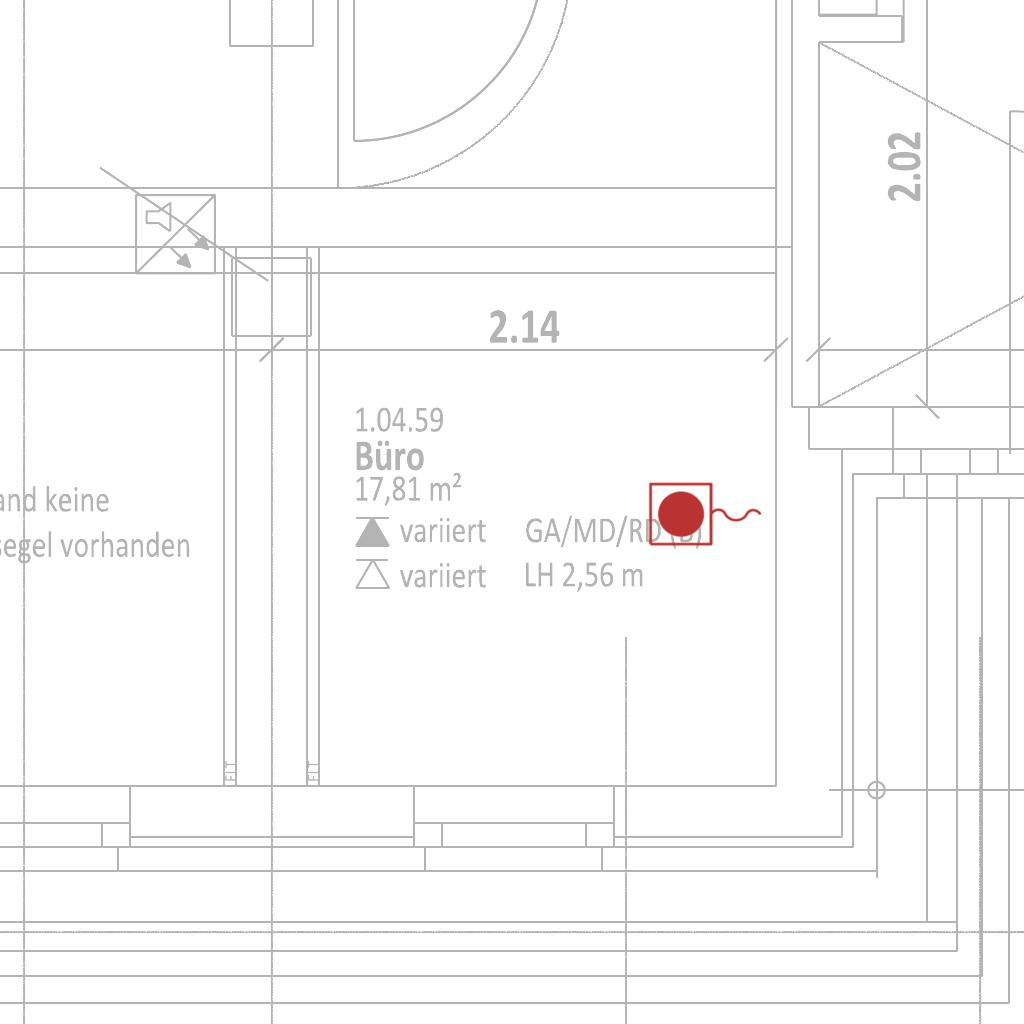Zugtaster: (645, 479, 767, 551)
